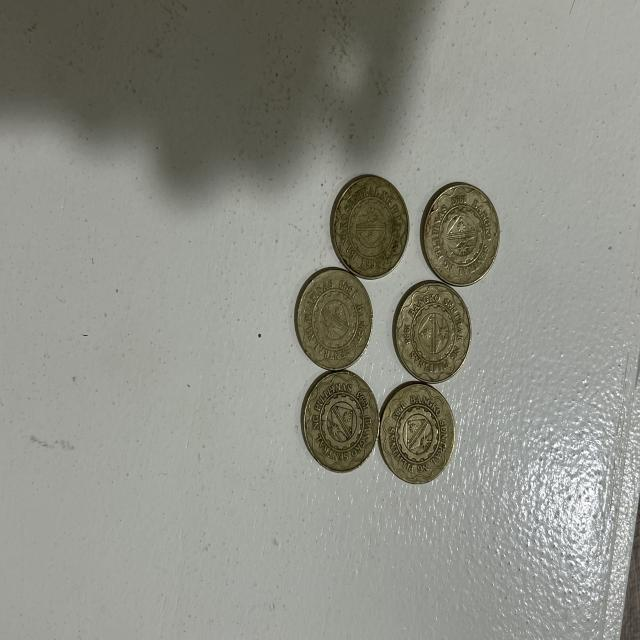5_Old_Back: (299, 365, 383, 475), (418, 184, 503, 291), (326, 168, 408, 275), (294, 266, 373, 372), (396, 282, 469, 388), (385, 386, 457, 490)
